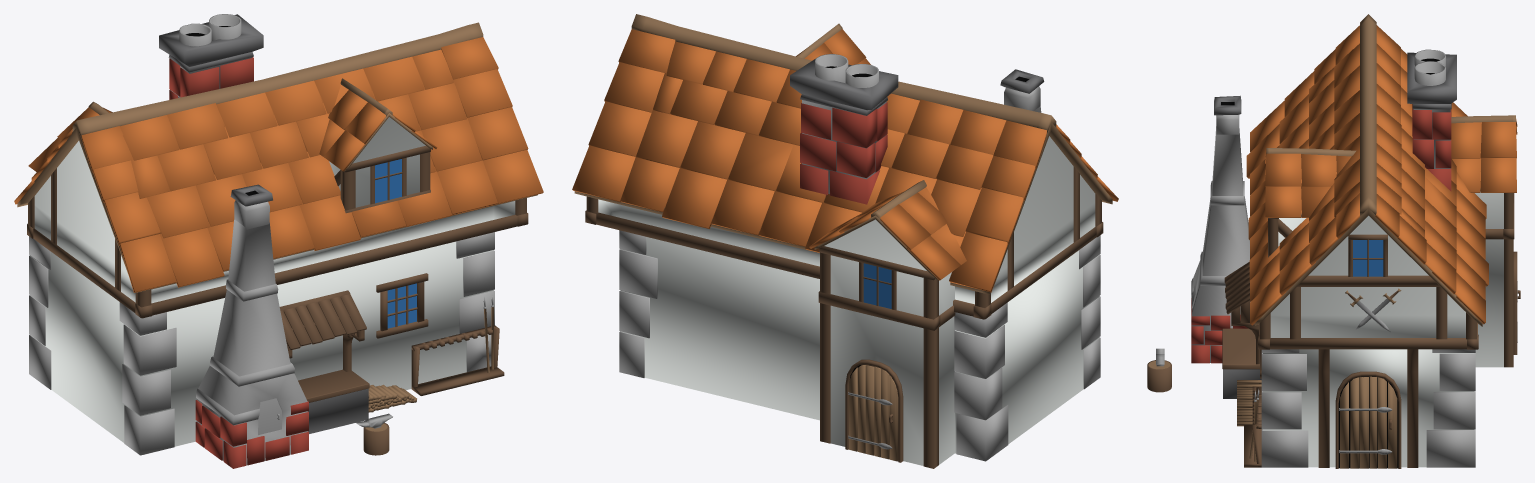
Rendered from building2.glb.
3 renders of one model, left to right at view 1: azimuth 30°, elevation 25°; view 2: azimuth 150°, elevation 25°; view 3: azimuth 270°, elevation 25°, orthographic. The views are drawn at different scales.
Parts seen in each view (by area): view 1: Smithy; view 2: Smithy; view 3: Smithy.
Boxes of the visible parts, <box> form: Smithy: <box>14,14,543,468</box>; Smithy: <box>572,14,1118,468</box>; Smithy: <box>1147,14,1520,468</box>.
Size of the model in its own units: 5.62 by 4.34 by 4.64.
